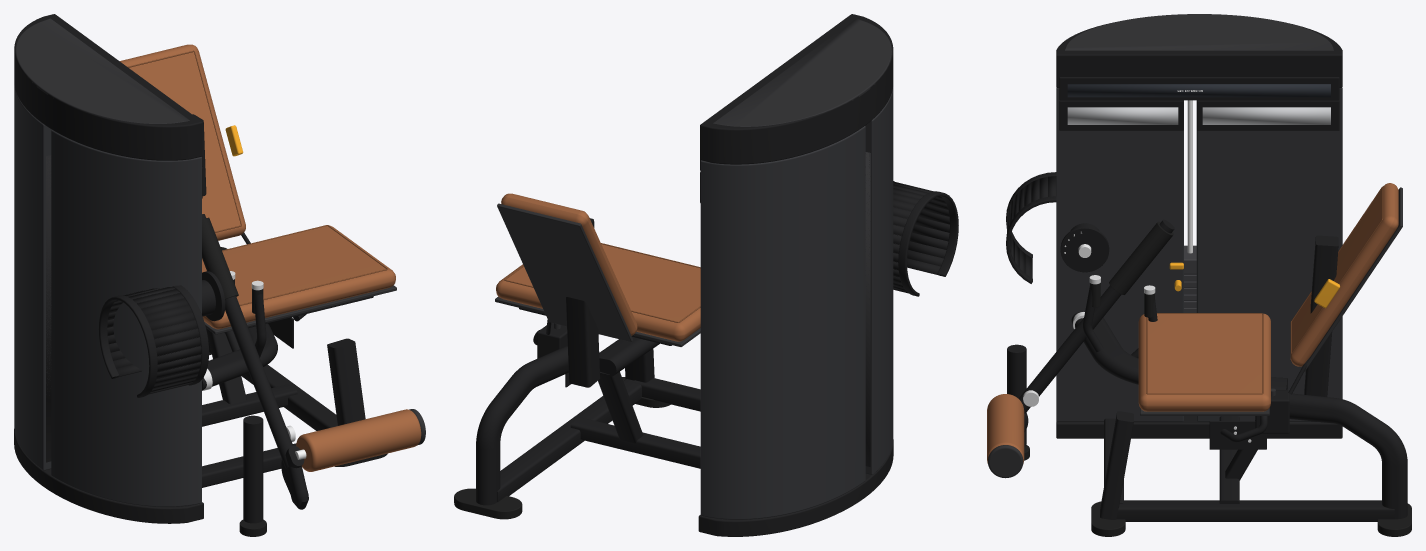
Rendered from precor-resolute-series-leg-extension_v007.glb.
The picture shows the model from 3 angles, left to right: view 1: azimuth 30°, elevation 25°; view 2: azimuth 150°, elevation 25°; view 3: azimuth 270°, elevation 25°; orthographic projection. The views are drawn at different scales.
Parts seen in each view (by area): view 1: precor-resolute-series-leg-extension_shroud, precor-resolute-series-leg-extension_pad.001, precor-resolute-series-leg-extension_frame.002, precor-resolute-series-leg-extension_frame, precor-resolute-series-leg-extension_plastic, precor-resolute-series-leg-extension_frame.005, precor-resolute-series-leg-extension_frame.003, precor-resolute-series-leg-extension_pad, precor-resolute-series-leg-extension_plastic.001, precor-resolute-series-leg-extension_rubber, precor-resolute-series-leg-extension_seam, precor-resolute-series-leg-extension_plastic.003 (+1 smaller); view 2: precor-resolute-series-leg-extension_shroud, precor-resolute-series-leg-extension_frame.002, precor-resolute-series-leg-extension_frame, precor-resolute-series-leg-extension_pad.001, precor-resolute-series-leg-extension_plastic.003, precor-resolute-series-leg-extension_plastic, precor-resolute-series-leg-extension_frame.003, precor-resolute-series-leg-extension_plastic.001, precor-resolute-series-leg-extension_rubber.002, precor-resolute-series-leg-extension_frame.004; view 3: precor-resolute-series-leg-extension_shroud, precor-resolute-series-leg-extension_frame.002, precor-resolute-series-leg-extension_pad.001, precor-resolute-series-leg-extension_frame, precor-resolute-series-leg-extension_plastic, precor-resolute-series-leg-extension_frame.001, precor-resolute-series-leg-extension_frame.005, precor-resolute-series-leg-extension_placard, precor-resolute-series-leg-extension_panel, precor-resolute-series-leg-extension_rubber, precor-resolute-series-leg-extension_pad, precor-resolute-series-leg-extension_plastic.003 (+10 smaller).
Part boxes in pixels (box(x1,y1,x2,y2)): precor-resolute-series-leg-extension_shroud: box(14, 85, 201, 506); precor-resolute-series-leg-extension_pad.001: box(120, 44, 395, 329); precor-resolute-series-leg-extension_frame.002: box(98, 114, 365, 509); precor-resolute-series-leg-extension_frame: box(14, 14, 203, 523); precor-resolute-series-leg-extension_plastic: box(15, 18, 189, 123); precor-resolute-series-leg-extension_frame.005: box(202, 214, 293, 523); precor-resolute-series-leg-extension_frame.003: box(107, 287, 201, 394); precor-resolute-series-leg-extension_pad: box(296, 409, 421, 471); precor-resolute-series-leg-extension_plastic.001: box(46, 155, 51, 462); precor-resolute-series-leg-extension_rubber: box(202, 217, 263, 313); precor-resolute-series-leg-extension_seam: box(127, 50, 387, 305); precor-resolute-series-leg-extension_plastic.003: box(204, 285, 396, 334); precor-resolute-series-leg-extension_shroud: box(700, 87, 893, 519); precor-resolute-series-leg-extension_frame.002: box(476, 181, 958, 505); precor-resolute-series-leg-extension_frame: box(698, 14, 893, 536); precor-resolute-series-leg-extension_pad.001: box(496, 193, 700, 341); precor-resolute-series-leg-extension_plastic.003: box(495, 203, 700, 346); precor-resolute-series-leg-extension_plastic: box(713, 18, 891, 126); precor-resolute-series-leg-extension_frame.003: box(893, 181, 949, 293); precor-resolute-series-leg-extension_plastic.001: box(865, 152, 870, 466); precor-resolute-series-leg-extension_rubber.002: box(454, 377, 670, 519); precor-resolute-series-leg-extension_frame.004: box(537, 322, 567, 358); precor-resolute-series-leg-extension_shroud: box(1056, 88, 1342, 422); precor-resolute-series-leg-extension_frame.002: box(1006, 172, 1407, 521); precor-resolute-series-leg-extension_pad.001: box(1138, 183, 1398, 411); precor-resolute-series-leg-extension_frame: box(1056, 23, 1342, 438); precor-resolute-series-leg-extension_plastic: box(1065, 14, 1333, 50); precor-resolute-series-leg-extension_frame.001: box(1059, 77, 1339, 130); precor-resolute-series-leg-extension_frame.005: box(1007, 219, 1309, 446); precor-resolute-series-leg-extension_placard: box(1067, 107, 1330, 124); precor-resolute-series-leg-extension_panel: box(1067, 84, 1330, 97); precor-resolute-series-leg-extension_rubber: box(1090, 221, 1173, 317); precor-resolute-series-leg-extension_pad: box(987, 394, 1024, 463); precor-resolute-series-leg-extension_plastic.003: box(1140, 187, 1402, 415).
Size of the model in its own units: 1.27 by 1.5 by 1.49.
